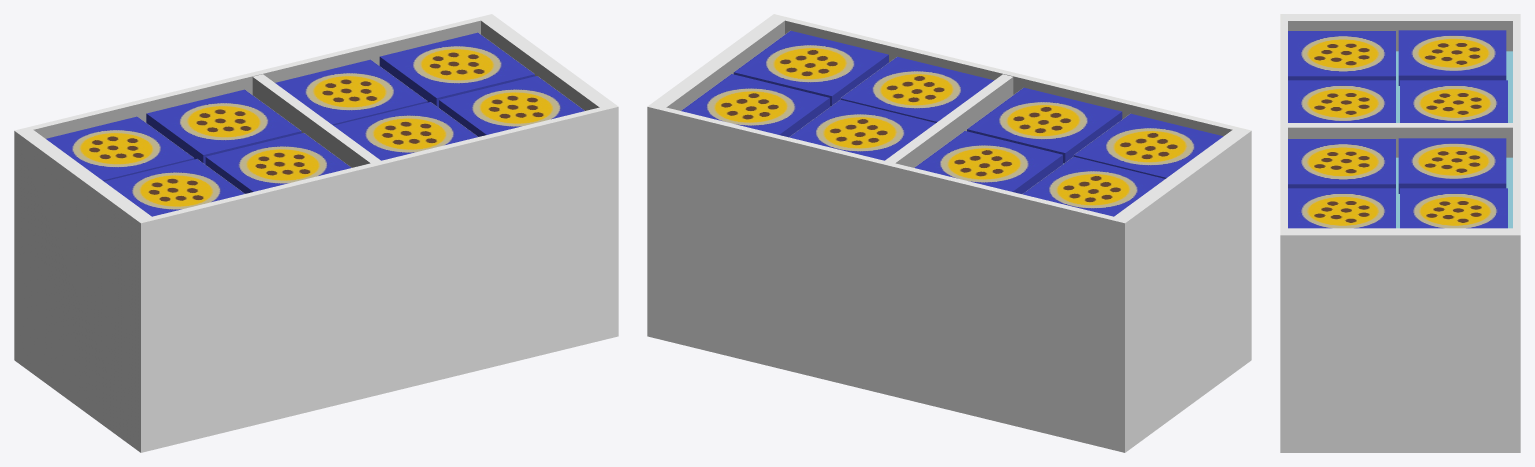
Rendered from meatball_pizza_box.gltf.
The picture shows the model from 3 angles, left to right: view 1: azimuth 30°, elevation 25°; view 2: azimuth 150°, elevation 25°; view 3: azimuth 270°, elevation 25°; orthographic projection. The views are drawn at different scales.
Visible parts, largest first — view 1: Cube.034; view 2: Cube.034; view 3: Cube.034.
Boxes of the visible parts, bbox=[...] form: Cube.034: bbox=[14, 14, 618, 452]; Cube.034: bbox=[647, 14, 1251, 452]; Cube.034: bbox=[1280, 14, 1520, 452].
Size of the model in its own units: 9.22 by 4.23 by 4.23.
Materials: 2 (2 with a texture image).
